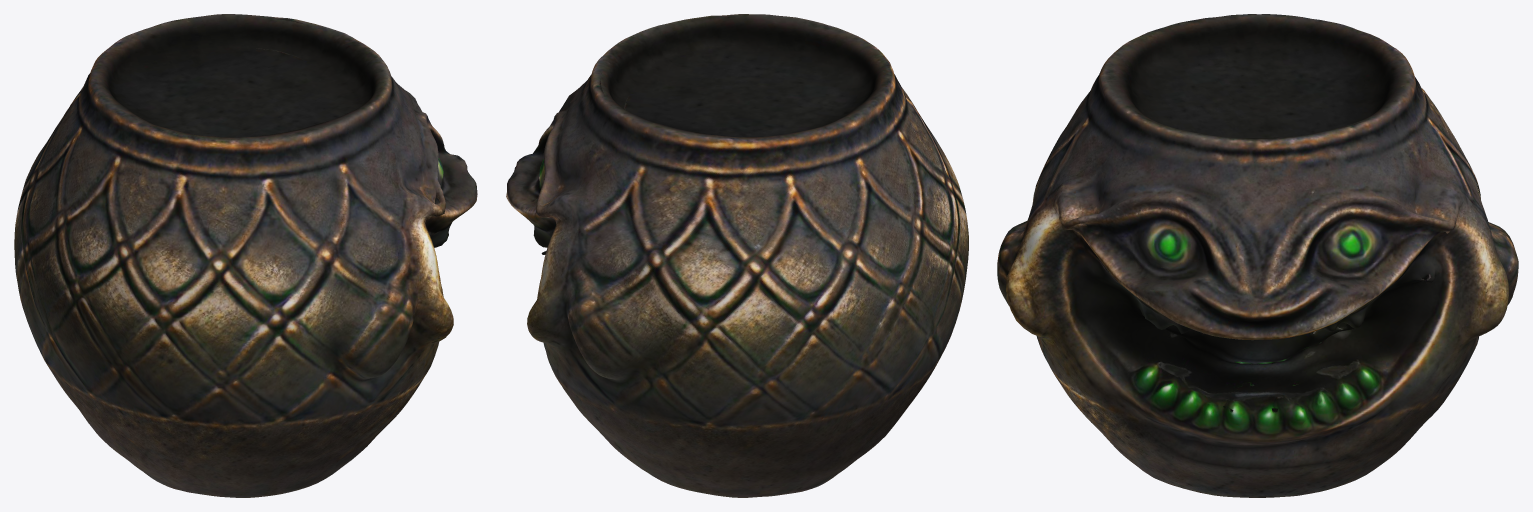
File: jar.glb
3 renders of one model, left to right at view 1: azimuth 30°, elevation 25°; view 2: azimuth 150°, elevation 25°; view 3: azimuth 270°, elevation 25°, orthographic. The views are drawn at different scales.
Visible parts, largest first — view 1: mesh; view 2: mesh; view 3: mesh.
Part boxes in pixels (bbox=[...]): mesh: bbox=[14, 14, 477, 497]; mesh: bbox=[506, 14, 968, 497]; mesh: bbox=[997, 14, 1518, 497].
Size of the model in its own units: 0.902 by 0.8263 by 0.999.
1 material, 1 textured.
